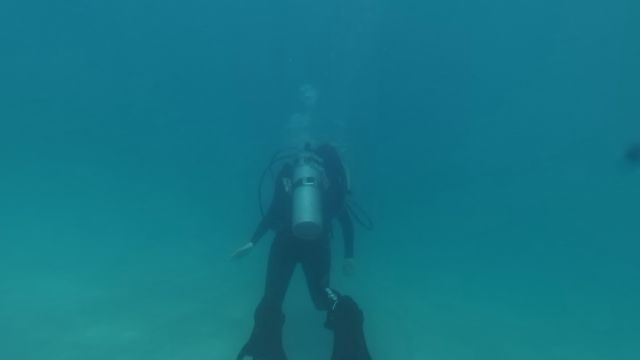Diver: (234, 131, 371, 356)
Hand: (230, 238, 260, 259), (342, 252, 357, 279)
